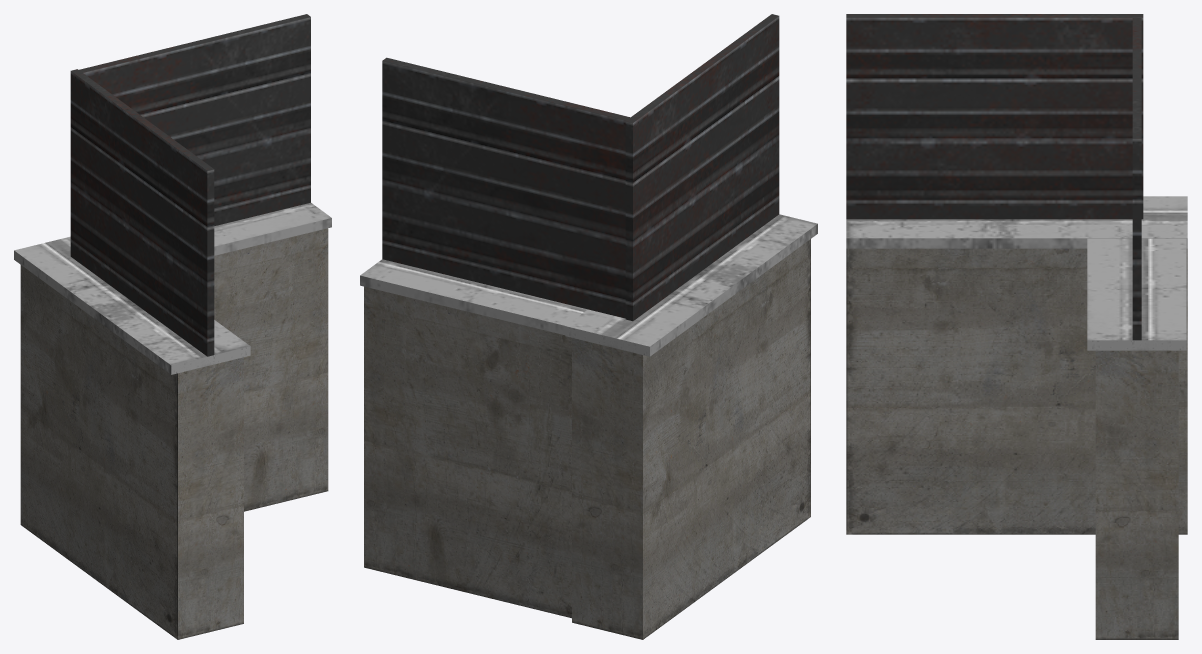
Rendered from CP_Parapet_C_Angle_Out.fbx.
3 views of the same model, side by side, from view 1: azimuth 30°, elevation 25°; view 2: azimuth 150°, elevation 25°; view 3: azimuth 270°, elevation 25° (orthographic). The views are drawn at different scales.
Visible parts, largest first — view 1: CP_Parapet_C_Angle_Out; view 2: CP_Parapet_C_Angle_Out; view 3: CP_Parapet_C_Angle_Out.
Boxes of the visible parts, x1,y1,x2,y2 form: CP_Parapet_C_Angle_Out: (14,14,331,639); CP_Parapet_C_Angle_Out: (360,14,817,639); CP_Parapet_C_Angle_Out: (846,14,1187,639).
Size of the model in its own units: 102 by 166 by 103.
